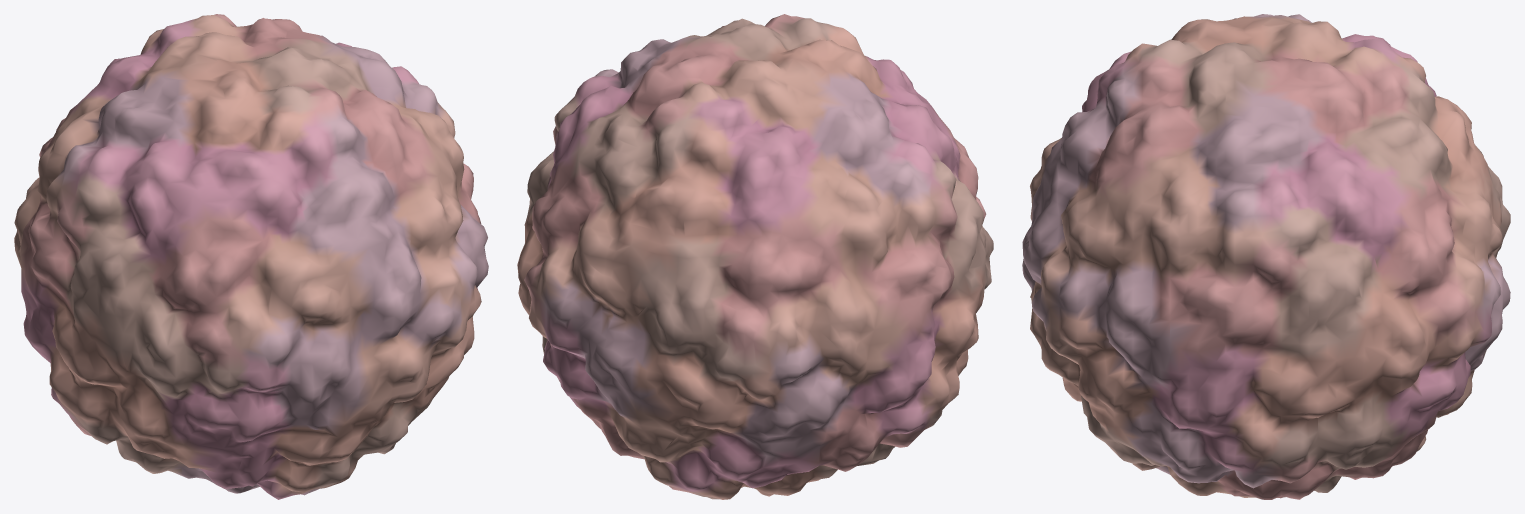
Rendered from rhinovirus.glb.
3 views of the same model, side by side, from view 1: azimuth 30°, elevation 25°; view 2: azimuth 150°, elevation 25°; view 3: azimuth 270°, elevation 25° (orthographic). The views are drawn at different scales.
Visible parts, largest first — view 1: Surface #1; view 2: Surface #1; view 3: Surface #1.
Boxes of the visible parts, box(x1,y1,x2,y2) form: Surface #1: box(14, 14, 488, 499); Surface #1: box(517, 14, 993, 499); Surface #1: box(1022, 14, 1510, 499).
Bounding box in the file's own units: 1 × 1 × 1.
